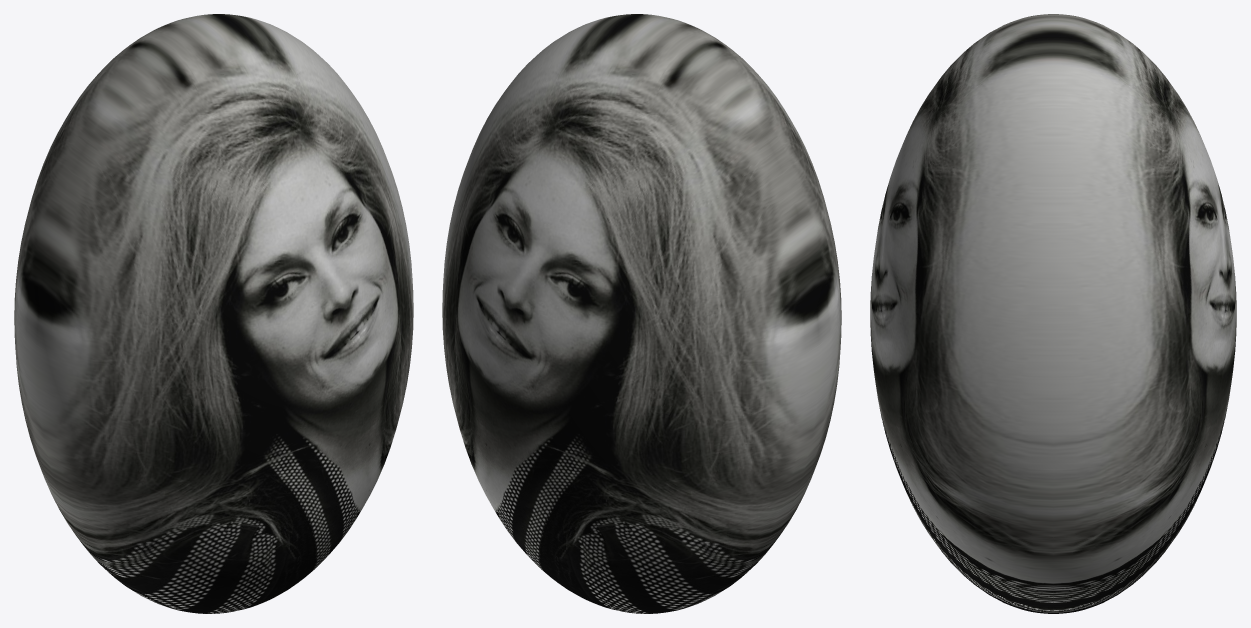
The picture shows the model from 3 angles, left to right: view 1: azimuth 30°, elevation 25°; view 2: azimuth 150°, elevation 25°; view 3: azimuth 270°, elevation 25°; orthographic projection.
Visible parts, largest first — view 1: head; view 2: head; view 3: head.
Boxes of the visible parts, <box> form: head: <box>14,14,413,613</box>; head: <box>442,14,841,613</box>; head: <box>870,14,1236,613</box>.
Size of the model in its own units: 1.28 by 2 by 1.16.
Materials: 1 (1 with a texture image).
